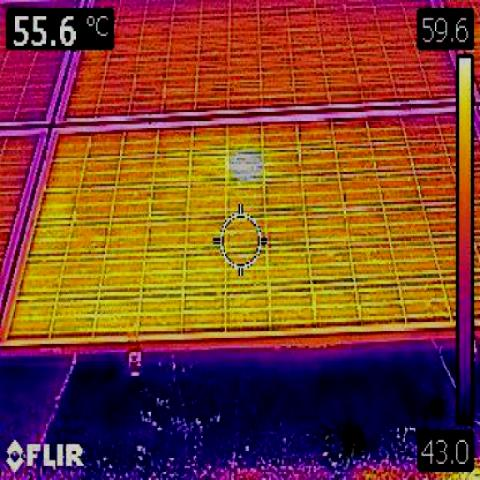fault: (229, 146, 264, 182)
